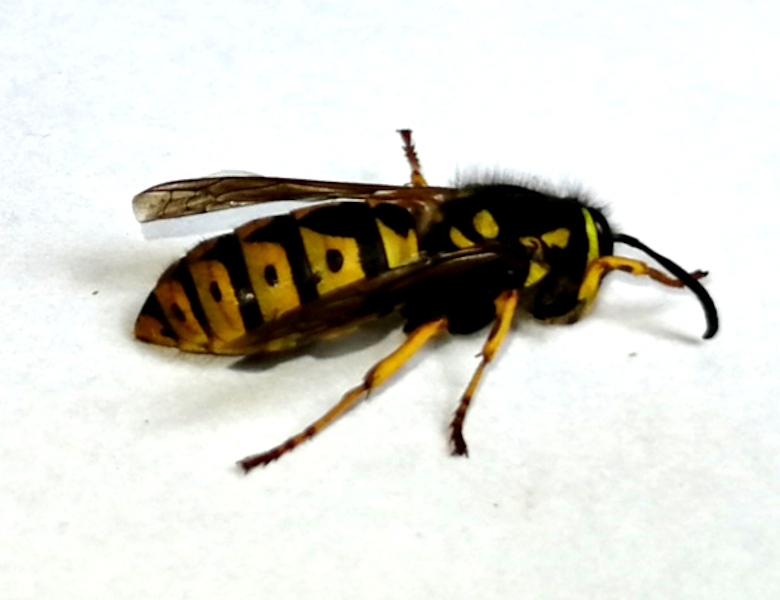chax: (118, 128, 726, 484)
